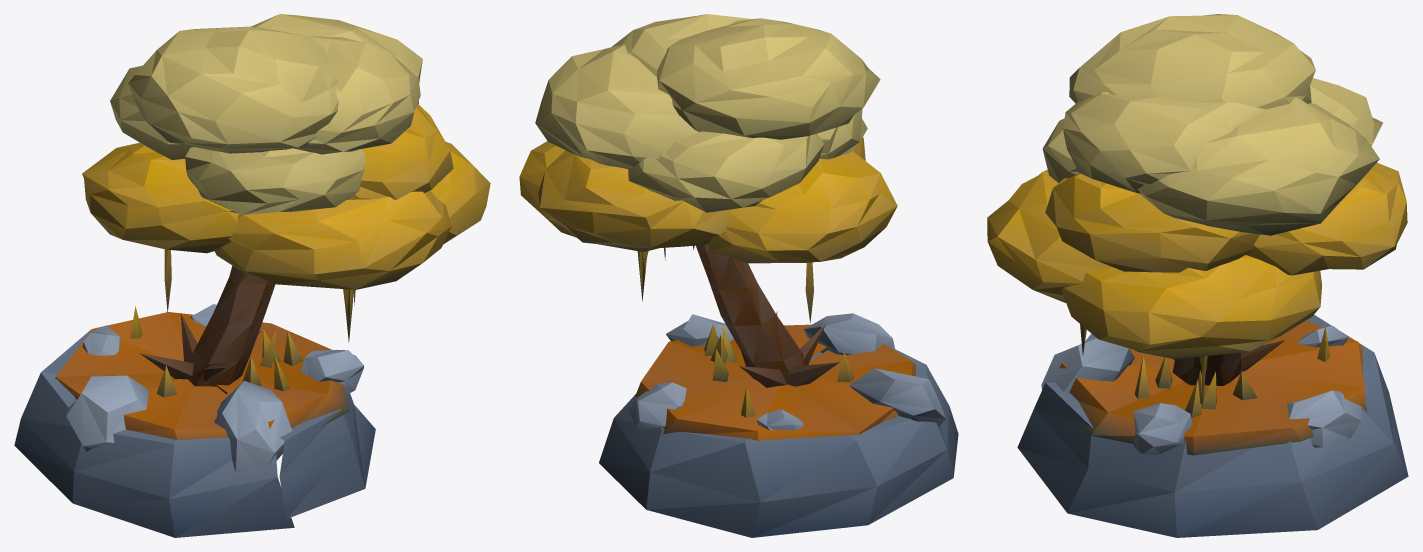
Rendered from pohon_river_autumn_308781.glb.
The picture shows the model from 3 angles, left to right: view 1: azimuth 30°, elevation 25°; view 2: azimuth 150°, elevation 25°; view 3: azimuth 270°, elevation 25°; orthographic projection. The views are drawn at different scales.
Visible parts, largest first — view 1: Dedaunan_Dan_Sulur, Pulau_Batu_Tepi_Sungai, Batang_Dan_Akar; view 2: Dedaunan_Dan_Sulur, Pulau_Batu_Tepi_Sungai, Batang_Dan_Akar; view 3: Dedaunan_Dan_Sulur, Pulau_Batu_Tepi_Sungai, Batang_Dan_Akar.
Part boxes in pixels (<box>): Dedaunan_Dan_Sulur: <box>82,14,490,342</box>; Pulau_Batu_Tepi_Sungai: <box>14,304,375,537</box>; Batang_Dan_Akar: <box>140,265,275,394</box>; Dedaunan_Dan_Sulur: <box>519,14,897,322</box>; Pulau_Batu_Tepi_Sungai: <box>599,311,958,537</box>; Batang_Dan_Akar: <box>696,244,839,387</box>; Dedaunan_Dan_Sulur: <box>987,14,1407,406</box>; Pulau_Batu_Tepi_Sungai: <box>1017,314,1408,537</box>; Batang_Dan_Akar: <box>1172,340,1285,385</box>.
Size of the model in its own units: 6.83 by 6.66 by 5.7.
